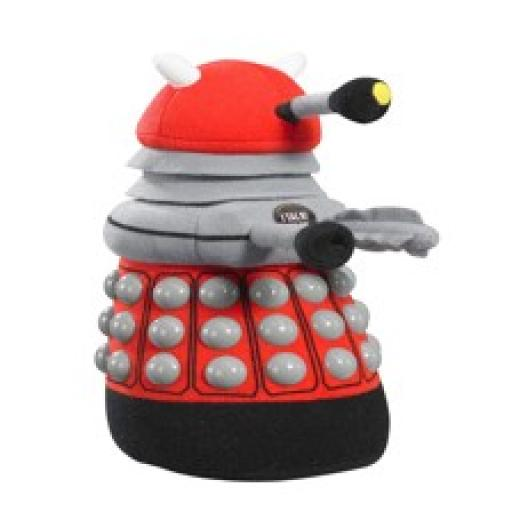dalek: (82, 47, 442, 484)
